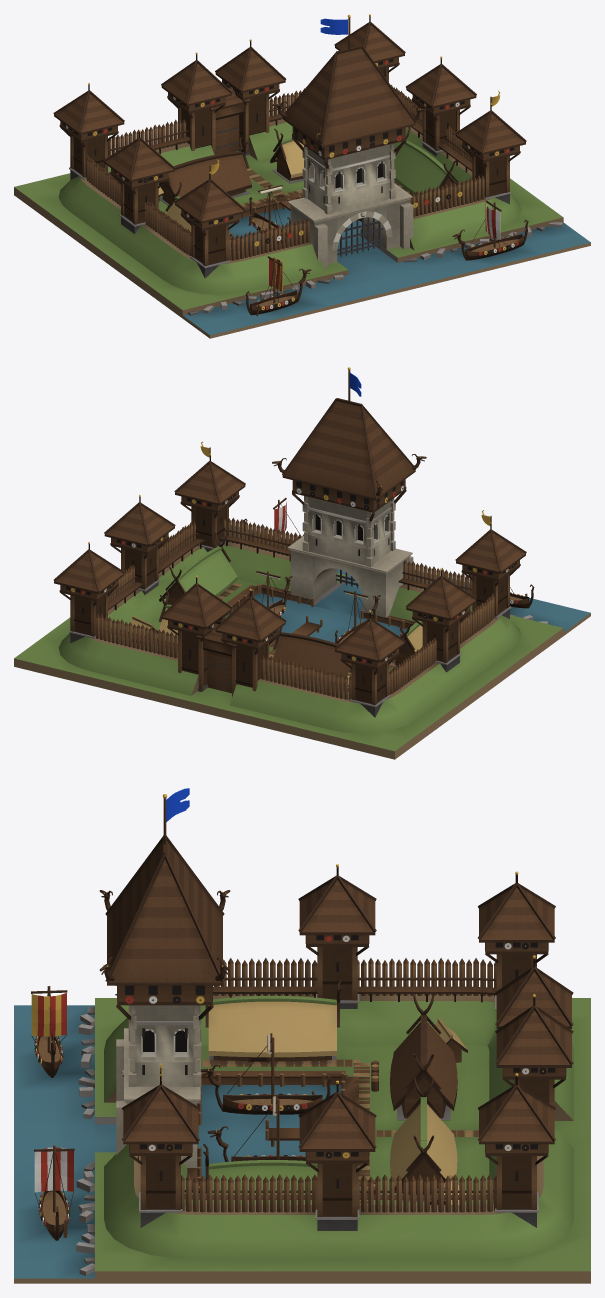
File: lm_jomsborg.glb
3 renders of one model, top to bottom at view 1: azimuth 30°, elevation 25°; view 2: azimuth 150°, elevation 25°; view 3: azimuth 270°, elevation 25°, orthographic. The views are drawn at different scales.
Parts seen in each view (by area): view 1: lm_jomsborg; view 2: lm_jomsborg; view 3: lm_jomsborg.
Part boxes in pixels (x1=…): lm_jomsborg: x1=14, y1=14, x2=590, y2=338; lm_jomsborg: x1=14, y1=367, x2=590, y2=759; lm_jomsborg: x1=14, y1=788, x2=590, y2=1283.
Bounding box in the file's own units: 2.4 × 1.45 × 2.14.
1 material, 1 textured.
